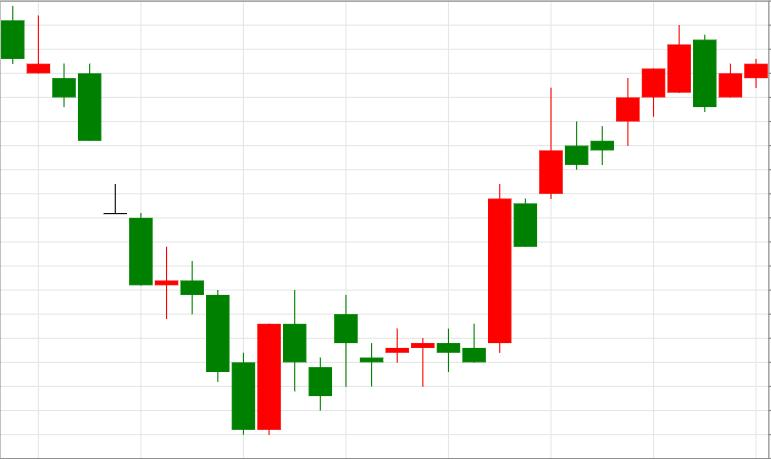bullish_engulfing_rise: (103, 184, 281, 434)
shooting_star_fall: (462, 88, 562, 363)
